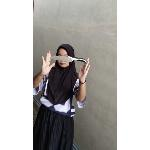Pisau: (49, 54, 90, 66)
